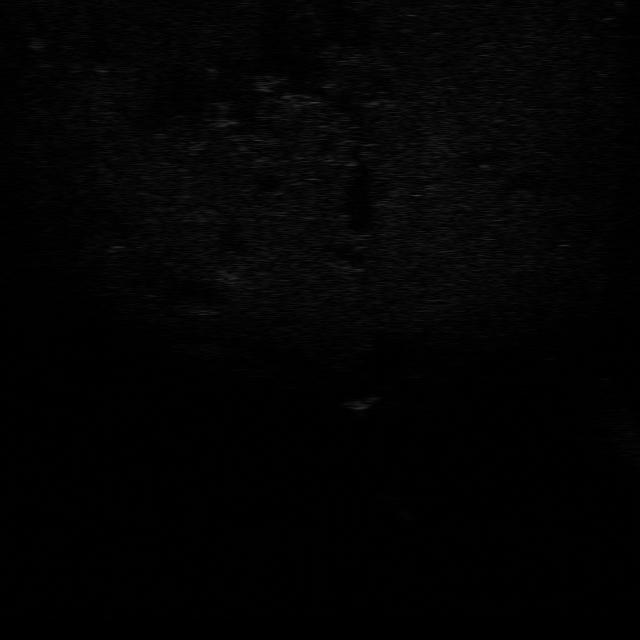square cage: (339, 394, 391, 419)
